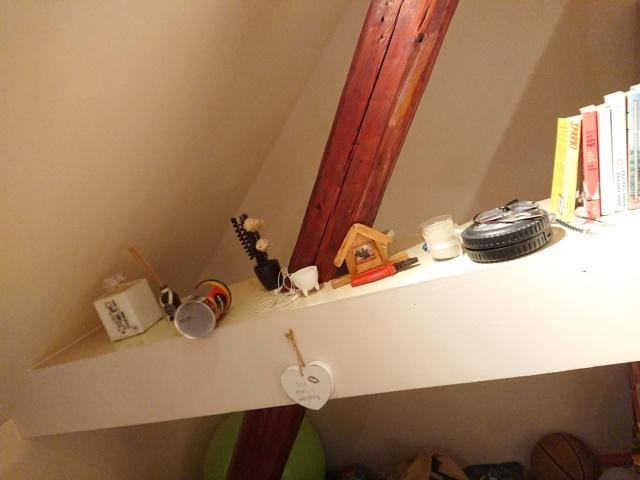Nescafe Classic 225g: (172, 277, 234, 342)
